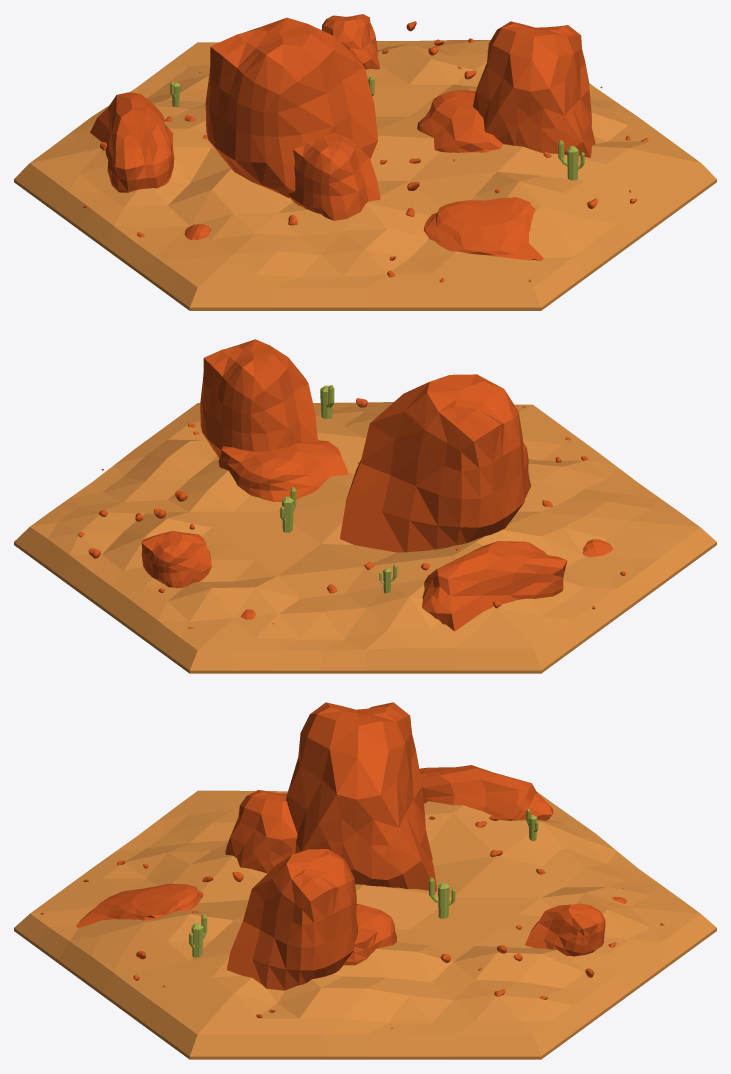
File: temperatedessert.glb
3 views of the same model, one above another, from view 1: azimuth 30°, elevation 25°; view 2: azimuth 150°, elevation 25°; view 3: azimuth 270°, elevation 25° (orthographic).
Visible parts, largest first — view 1: land, big_details, small_details; view 2: land, big_details, small_details; view 3: land, big_details, small_details.
Part boxes in pixels (<box>): land: <box>14,40,716,310</box>; big_details: <box>90,14,595,260</box>; small_details: <box>83,21,648,282</box>; land: <box>14,402,716,673</box>; big_details: <box>141,339,567,631</box>; small_details: <box>78,398,626,628</box>; land: <box>14,790,716,1059</box>; big_details: <box>76,702,605,990</box>; small_details: <box>40,815,664,1028</box>.
Bounding box in the file's own units: 1.73 × 0.5538 × 2.
